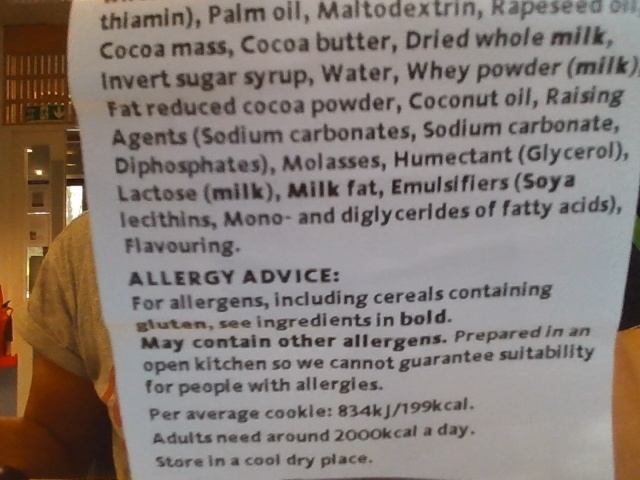milk: (550, 24, 608, 48), (286, 178, 341, 203), (208, 184, 267, 201), (574, 58, 629, 75)
